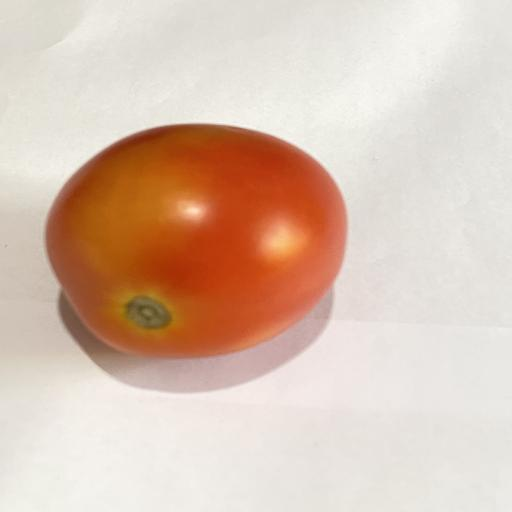ripe: (46, 124, 347, 357)
